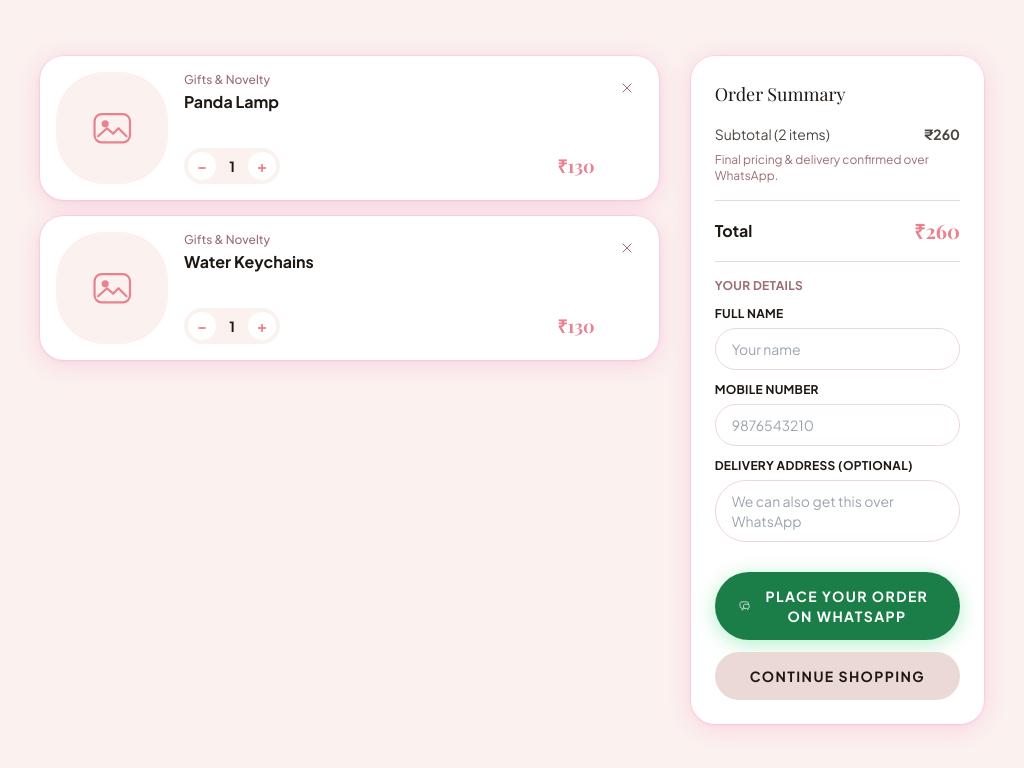
Test: CartClient › removes an item entirely via the remove button
The width and height of the screenshot is (1024, 768).
Expected: the link "Panda Lamp" is shown, [184, 91, 279, 112]
Click the button named "Remove item" in the row of "Panda Lamp": point(627, 88) [611, 72, 643, 104]
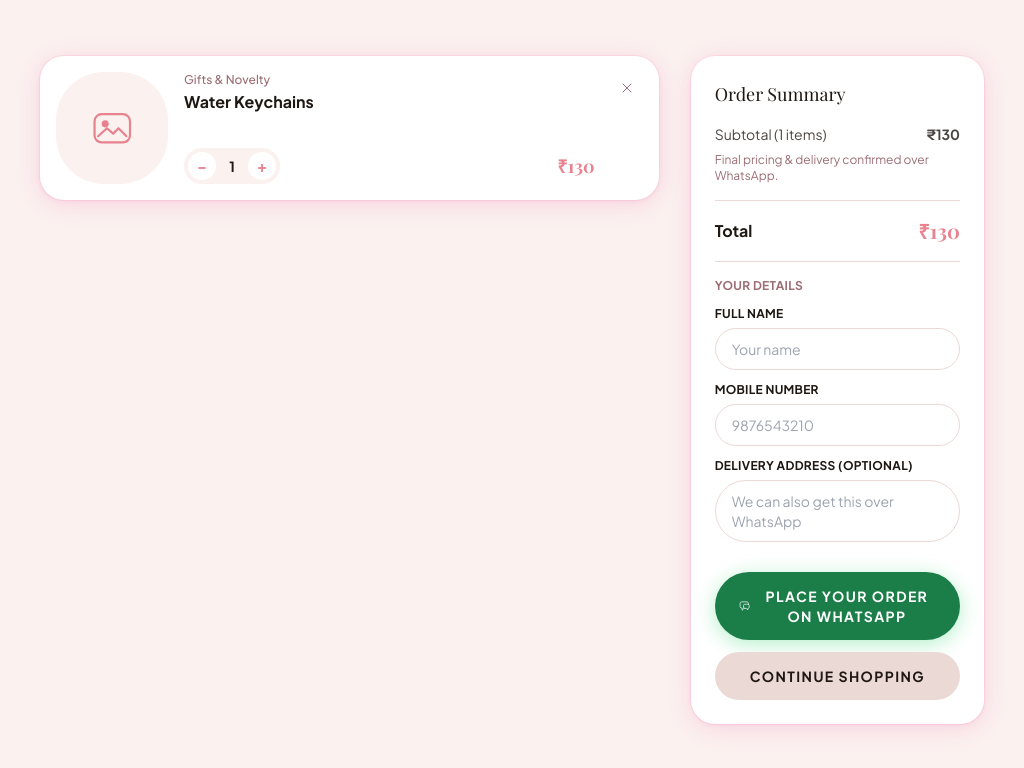
Expected: the link "Water Keychains" is shown, [184, 91, 314, 112]
Result: the link "Panda Lamp" is gone
